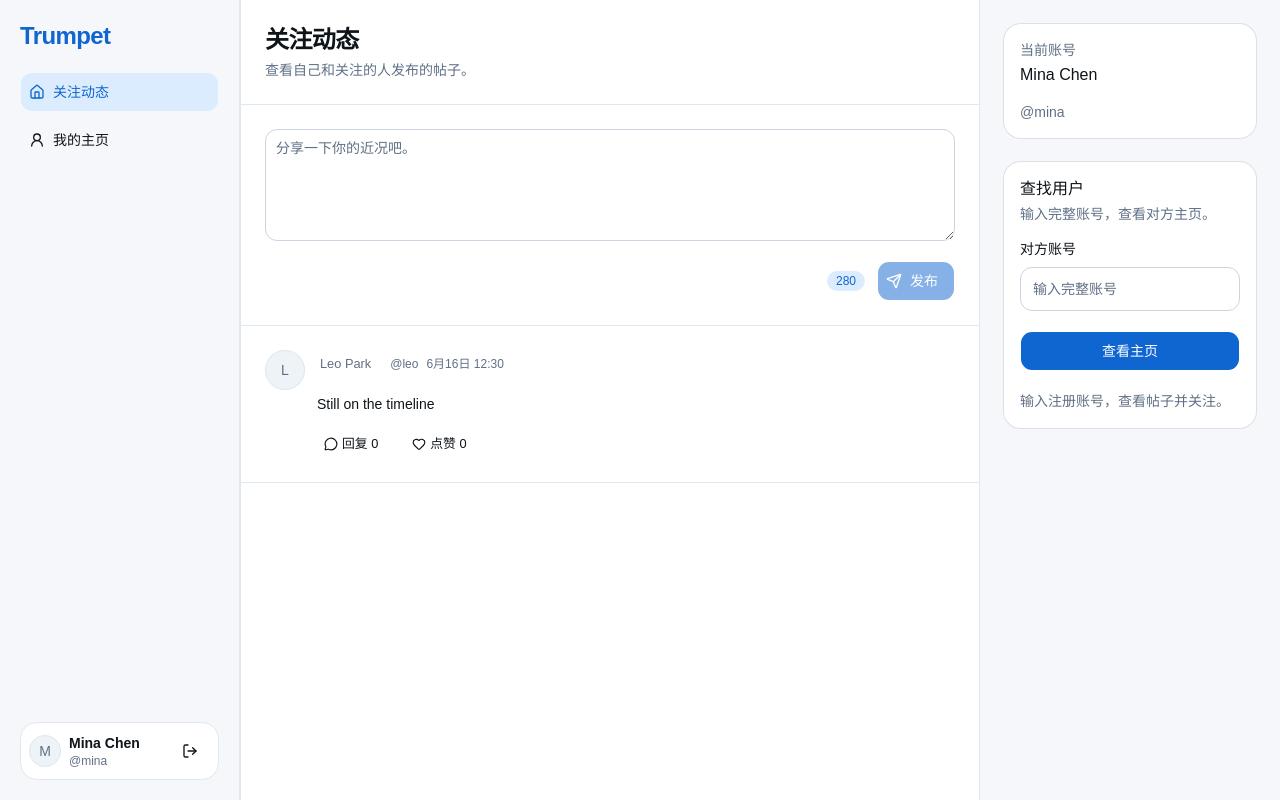
App profile interactions › returns home from a profile without clearing the timeline
The width and height of the screenshot is (1280, 800).
Type "leo" into the field labelled "对方账号" at (1130, 289), box x1=1020 y1=267 x2=1240 y2=311
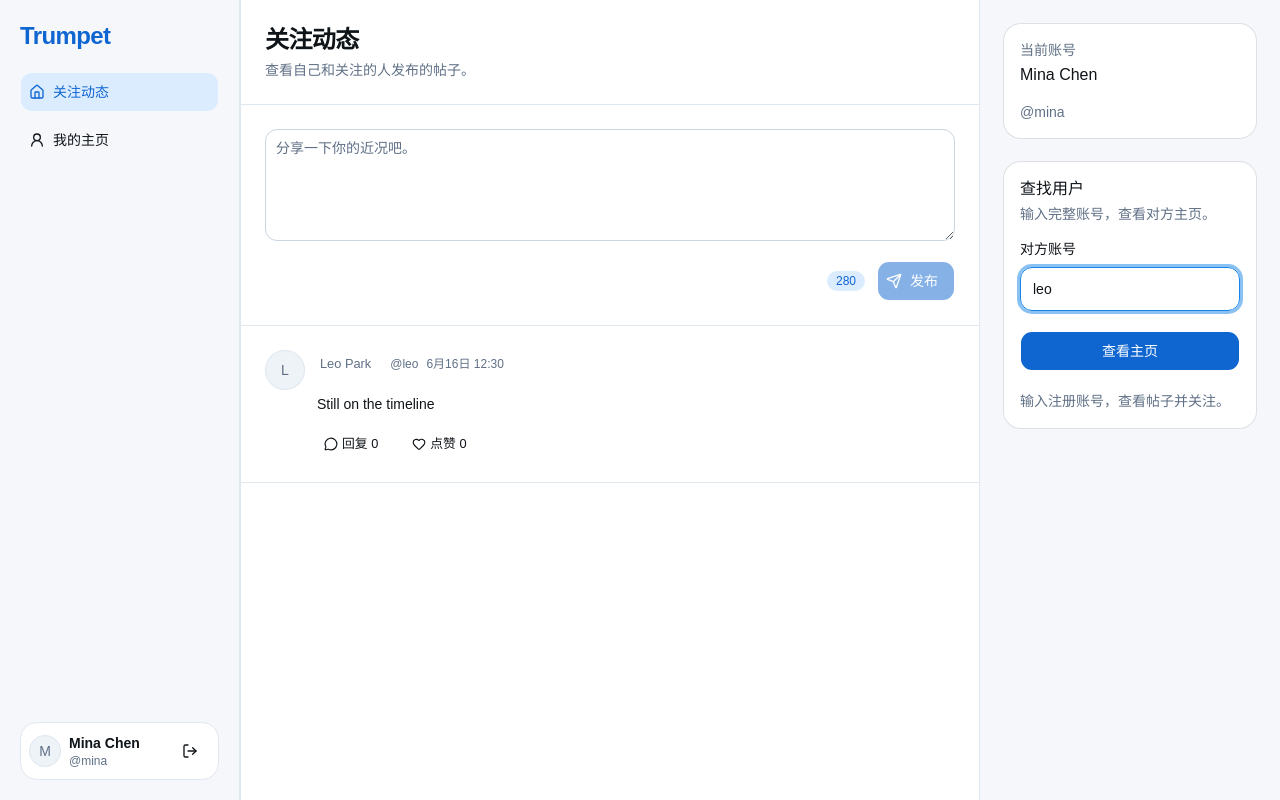
Click the button "查看主页" at (1130, 351), box x1=1020 y1=331 x2=1240 y2=371
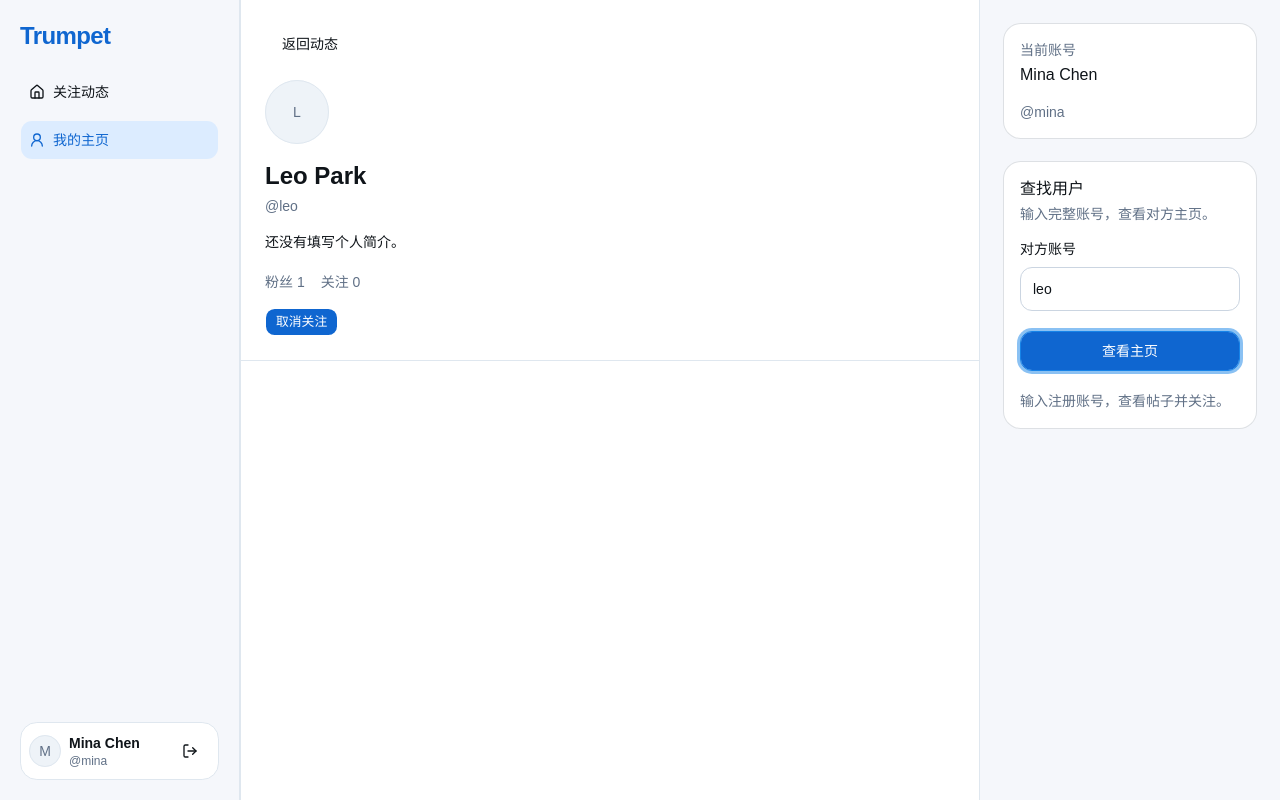
Expected: the heading "Leo Park" is shown, x1=265 y1=162 x2=366 y2=189
Click the button "返回动态" at (310, 44), box x1=265 y1=24 x2=355 y2=64
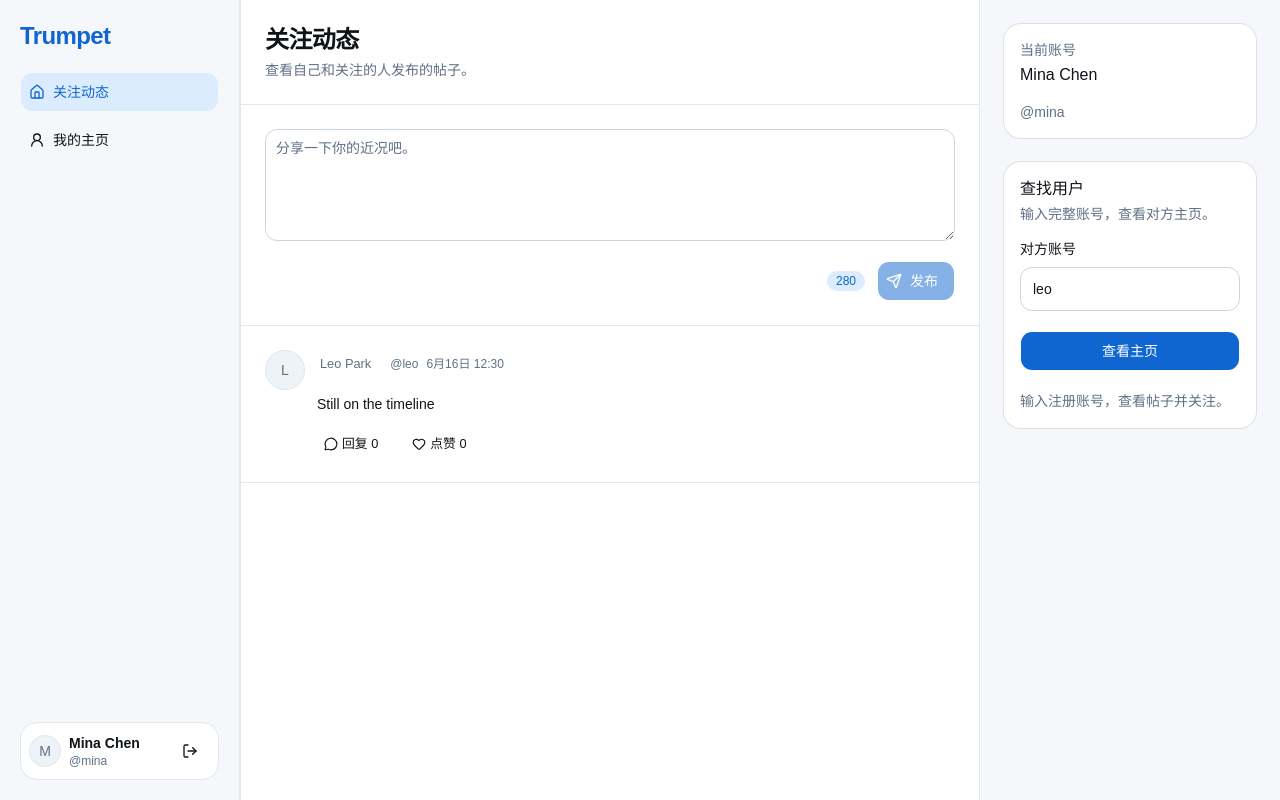
Expected: the heading "关注动态" is shown, x1=265 y1=26 x2=359 y2=53
Expected: the text "Still on the timeline" is shown, x1=317 y1=396 x2=434 y2=412
